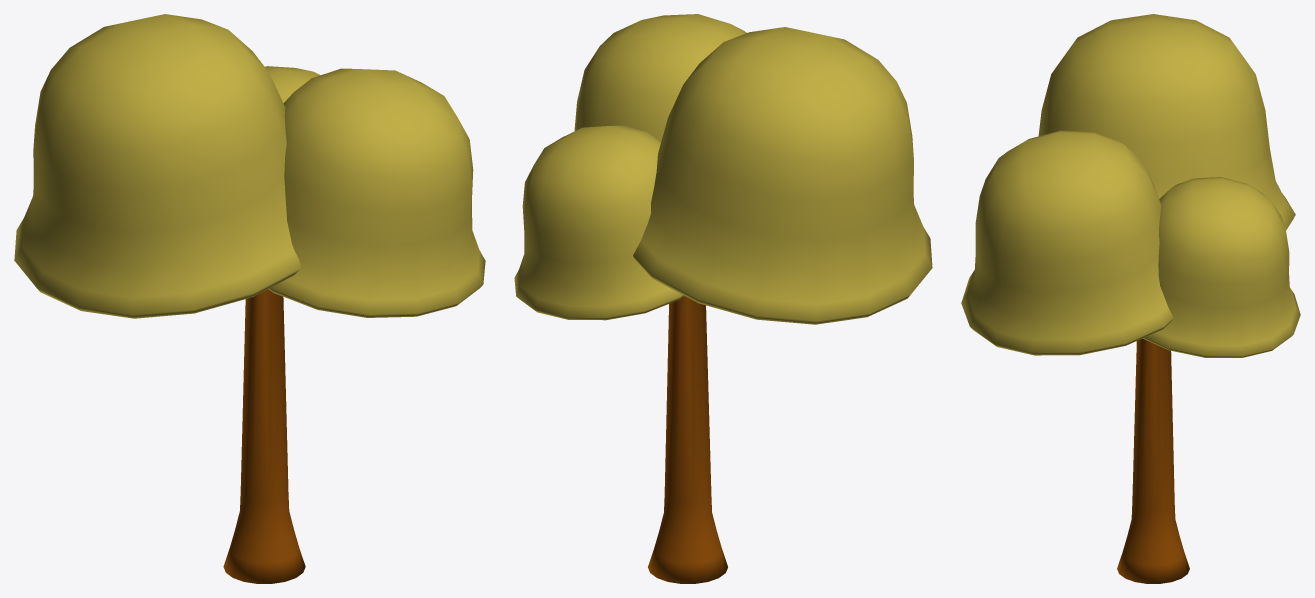
The model's file is WillowTreeYellow.gltf.
3 renders of one model, left to right at view 1: azimuth 30°, elevation 25°; view 2: azimuth 150°, elevation 25°; view 3: azimuth 270°, elevation 25°, orthographic. The views are drawn at different scales.
Visible parts, largest first — view 1: Cylinder.008; view 2: Cylinder.008; view 3: Cylinder.008.
Part boxes in pixels (left/top/right/bottom): Cylinder.008: left=14, top=14, right=485, bottom=583; Cylinder.008: left=514, top=14, right=932, bottom=583; Cylinder.008: left=961, top=14, right=1300, bottom=583.
Size of the model in its own units: 10.94 by 15.01 by 9.3.
